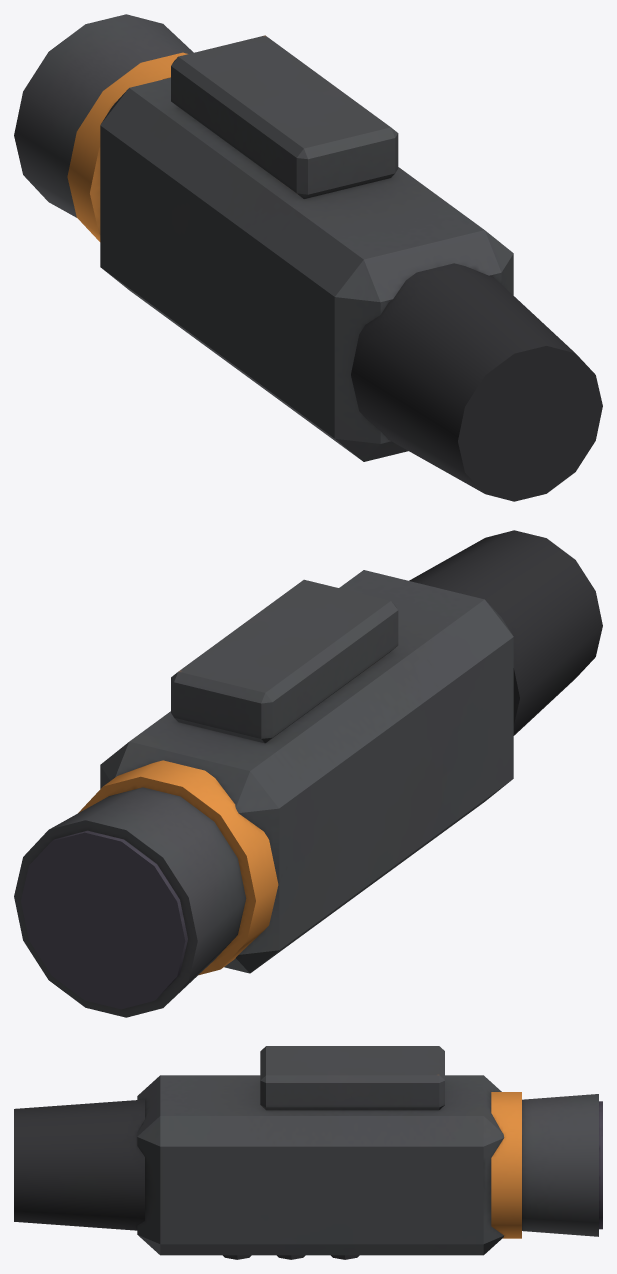
File: AT_Thermal.fbx
The picture shows the model from 3 angles, top to bottom: view 1: azimuth 30°, elevation 25°; view 2: azimuth 150°, elevation 25°; view 3: azimuth 270°, elevation 25°; orthographic projection. The views are drawn at different scales.
Parts seen in each view (by area): view 1: AT_Thermal_export; view 2: AT_Thermal_export; view 3: AT_Thermal_export.
Boxes of the visible parts, <box> form: AT_Thermal_export: <box>14,14,602,501</box>; AT_Thermal_export: <box>14,530,602,1017</box>; AT_Thermal_export: <box>14,1046,602,1259</box>.
Size of the model in its own units: 0.039 by 0.153 by 0.055.
